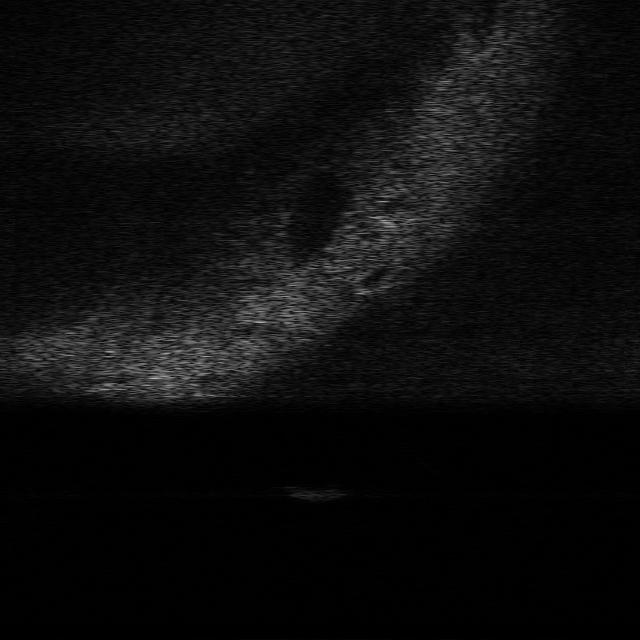cube: (285, 482, 349, 502)
